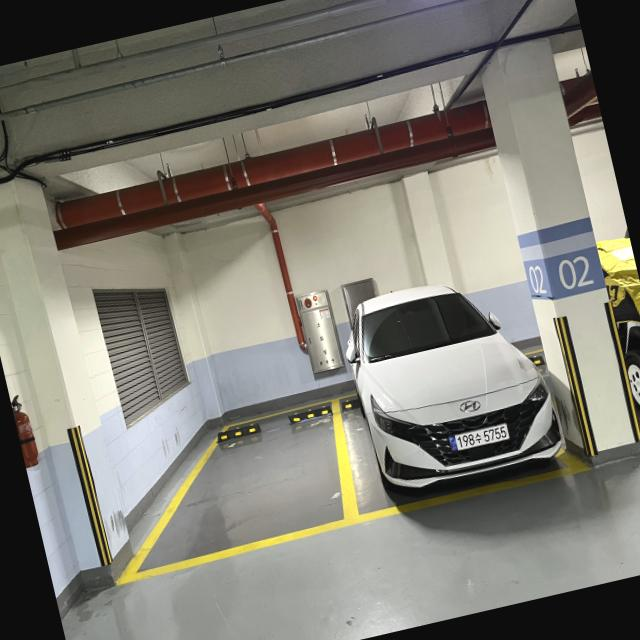car: (327, 249, 589, 533)
free: (114, 394, 360, 587)
